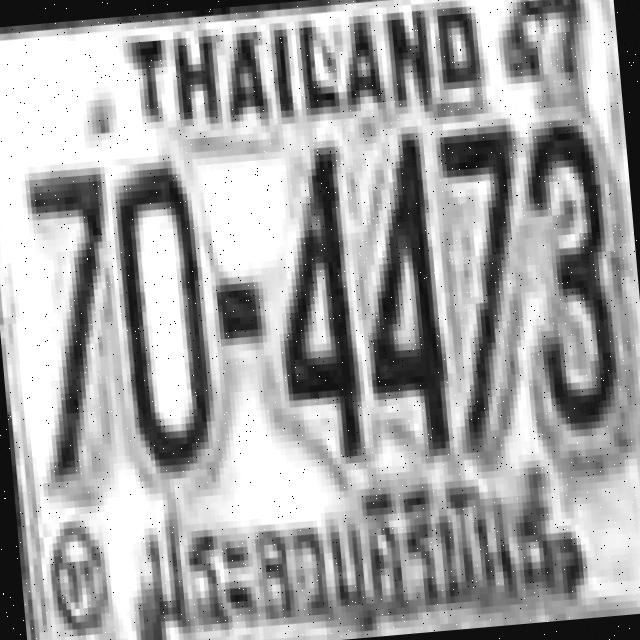0: (108, 156, 215, 472)
3: (514, 110, 620, 432)
4: (350, 128, 449, 450), (263, 143, 361, 458)
7: (19, 160, 126, 482), (434, 118, 534, 446)
PrachuapKhiriKhan: (135, 452, 573, 640)
